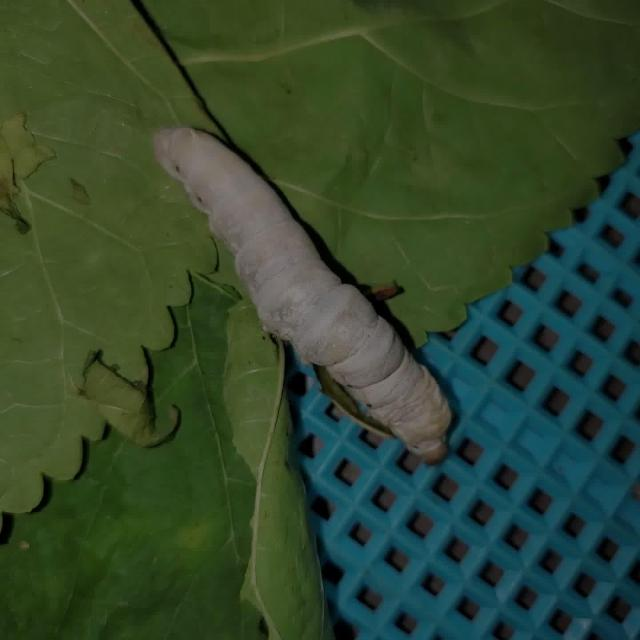Grasserie: (140, 88, 466, 486)
